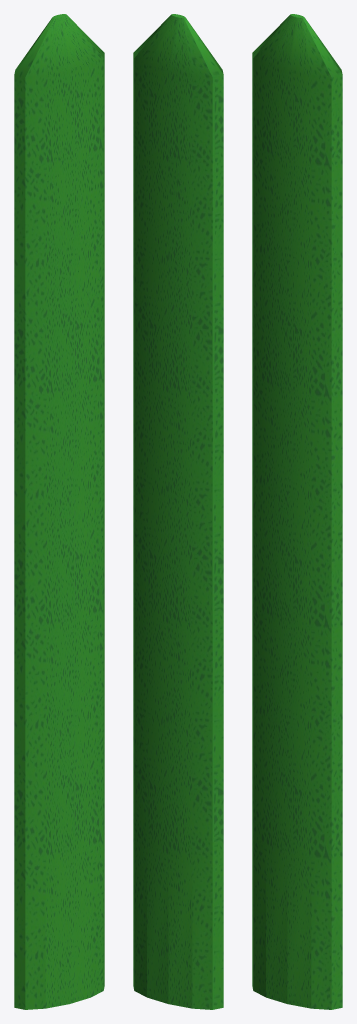
File: grass-4.fbx
The picture shows the model from 3 angles, left to right: view 1: azimuth 30°, elevation 25°; view 2: azimuth 150°, elevation 25°; view 3: azimuth 330°, elevation 25°; orthographic projection.
Visible parts, largest first — view 1: pCylinder6; view 2: pCylinder6; view 3: pCylinder6.
Part boxes in pixels (x1,y1,x2,y2): pCylinder6: (14, 14, 104, 1009); pCylinder6: (133, 14, 223, 1009); pCylinder6: (252, 14, 342, 1009).
Bounding box in the file's own units: 1.24 × 12.87 × 0.4818.
1 material, 1 textured.
